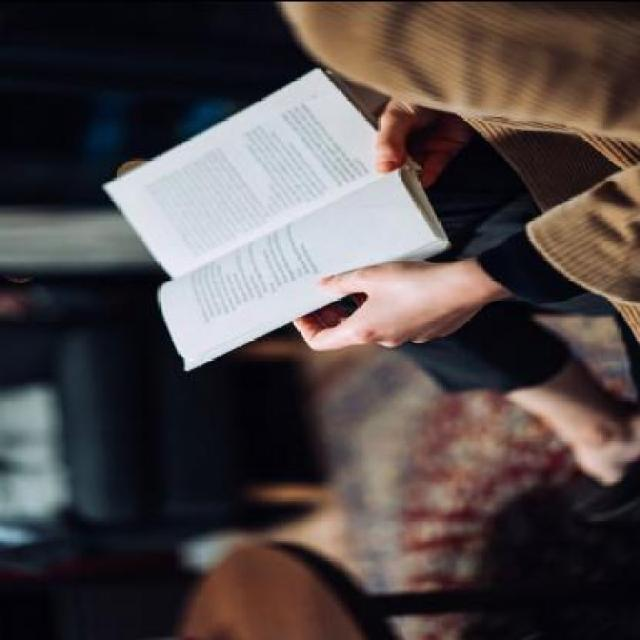book: (81, 45, 443, 391)
